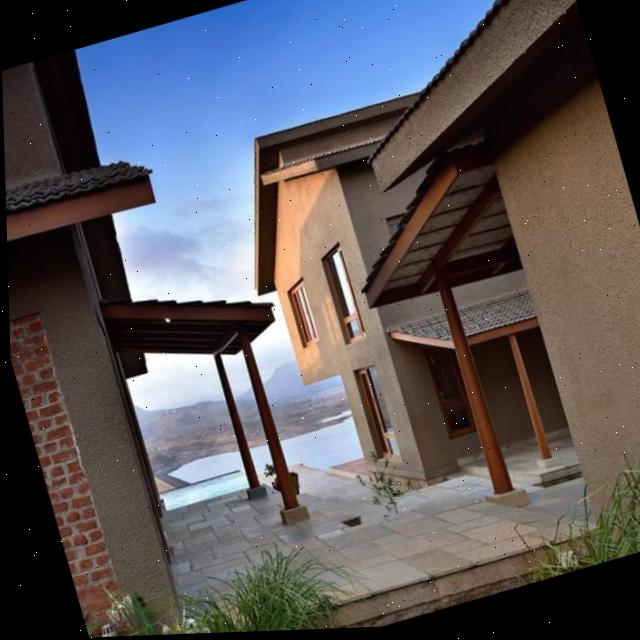building: (1, 14, 342, 640), (358, 0, 640, 501), (217, 91, 492, 517)
